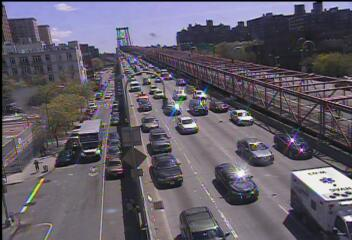neg: (183, 70, 224, 124), (137, 117, 171, 163), (298, 149, 330, 193), (259, 109, 287, 146), (40, 54, 66, 89), (109, 181, 134, 215), (203, 175, 226, 205), (16, 115, 36, 142), (118, 32, 138, 58)
